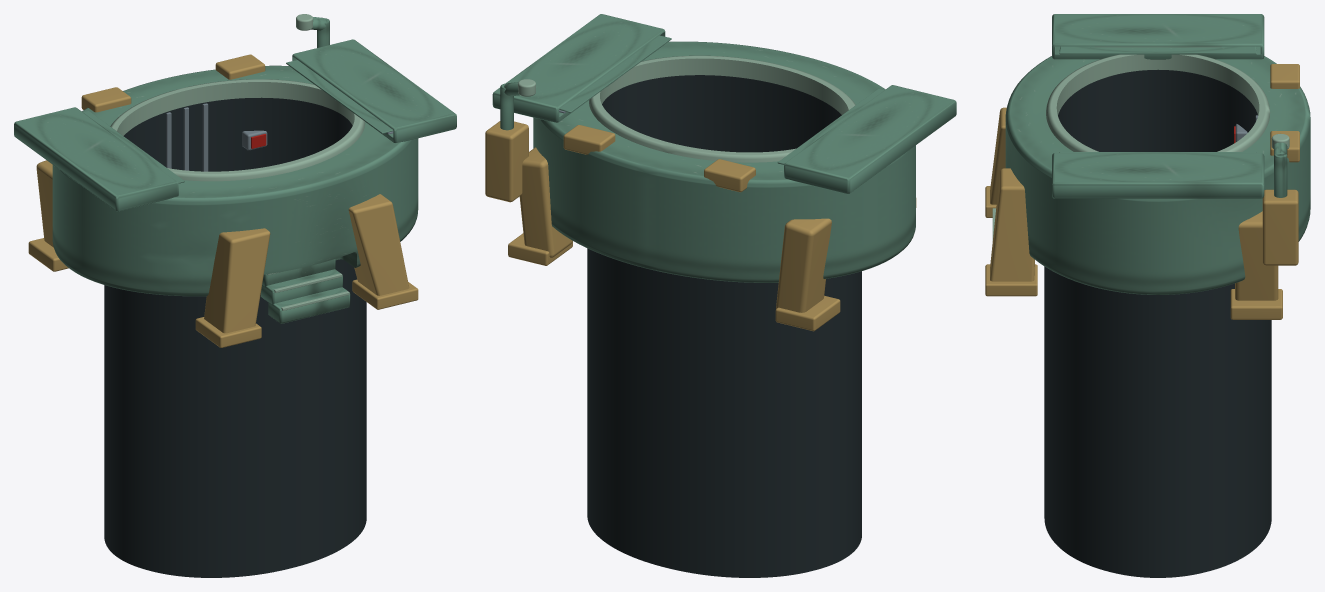
Rendered from descriptor-14.glb.
3 views of the same model, side by side, from view 1: azimuth 30°, elevation 25°; view 2: azimuth 150°, elevation 25°; view 3: azimuth 270°, elevation 25° (orthographic). The views are drawn at different scales.
Parts seen in each view (by area): view 1: RI10 shaft wall below ground, RI10 fixed oval body, RI10 enclosed side cover cassette, RI10 enclosed side cover cassette.001, RI10 green aperture coaming, RI10 front splayed brass buttress, RI10 front splayed brass buttress.001, RI10 front access step 0, RI10 front access step 1, RI10 right cover shell inner segment, RI10 rear brass load-bearing buttress, RI10 front brass foot flange (+6 smaller); view 2: RI10 shaft wall below ground, RI10 fixed oval body, RI10 enclosed side cover cassette, RI10 enclosed side cover cassette.001, RI10 green aperture coaming, RI10 rear brass load-bearing buttress, RI10 rear brass load-bearing buttress.001, RI10 right equipment mast foundation, RI10 right cover shell inner segment, RI10 rear brass foot flange, RI10 rear brass shoulder cap, RI10 rear brass shoulder cap.001 (+2 smaller); view 3: RI10 shaft wall below ground, RI10 fixed oval body, RI10 enclosed side cover cassette.001, RI10 enclosed side cover cassette, RI10 green aperture coaming, RI10 front splayed brass buttress.001, RI10 right equipment mast foundation, RI10 rear brass load-bearing buttress.001, RI10 left cover shell inner segment, RI10 rear brass foot flange.001, RI10 front brass foot flange.001, RI10 front splayed brass buttress (+3 smaller).
Part boxes in pixels (x1,y1,x2,y2): RI10 shaft wall below ground: [104, 97, 366, 577]; RI10 fixed oval body: [52, 65, 418, 296]; RI10 enclosed side cover cassette: [14, 107, 178, 211]; RI10 enclosed side cover cassette.001: [292, 39, 456, 142]; RI10 green aperture coaming: [110, 79, 365, 181]; RI10 front splayed brass buttress: [204, 228, 270, 333]; RI10 front splayed brass buttress.001: [348, 194, 409, 295]; RI10 front access step 0: [268, 287, 350, 323]; RI10 front access step 1: [261, 269, 342, 304]; RI10 right cover shell inner segment: [286, 60, 393, 133]; RI10 rear brass load-bearing buttress: [36, 160, 53, 247]; RI10 front brass foot flange: [195, 317, 261, 347]; RI10 shaft wall below ground: [587, 75, 861, 577]; RI10 fixed oval body: [533, 41, 915, 282]; RI10 enclosed side cover cassette: [784, 85, 956, 193]; RI10 enclosed side cover cassette.001: [492, 14, 665, 122]; RI10 green aperture coaming: [589, 55, 855, 162]; RI10 rear brass load-bearing buttress: [776, 218, 831, 312]; RI10 rear brass load-bearing buttress.001: [519, 147, 572, 257]; RI10 right equipment mast foundation: [485, 121, 528, 202]; RI10 right cover shell inner segment: [559, 35, 671, 112]; RI10 rear brass foot flange: [775, 295, 840, 331]; RI10 rear brass shoulder cap: [704, 159, 755, 192]; RI10 rear brass shoulder cap.001: [563, 125, 615, 154]; RI10 shaft wall below ground: [1044, 69, 1271, 577]; RI10 fixed oval body: [1005, 56, 1310, 294]; RI10 enclosed side cover cassette.001: [1052, 153, 1264, 198]; RI10 enclosed side cover cassette: [1052, 14, 1264, 59]; RI10 green aperture coaming: [1046, 54, 1270, 151]; RI10 front splayed brass buttress.001: [990, 168, 1034, 281]; RI10 right equipment mast foundation: [1262, 189, 1298, 265]; RI10 rear brass load-bearing buttress.001: [1235, 211, 1278, 300]; RI10 left cover shell inner segment: [1059, 46, 1256, 54]; RI10 rear brass foot flange.001: [1230, 289, 1282, 319]; RI10 front brass foot flange.001: [985, 264, 1037, 296]; RI10 front splayed brass buttress: [990, 107, 1006, 204].
Bounding box in the file's own units: 2.7 × 3.31 × 2.17.
Materials: 7 (2 with a texture image).
